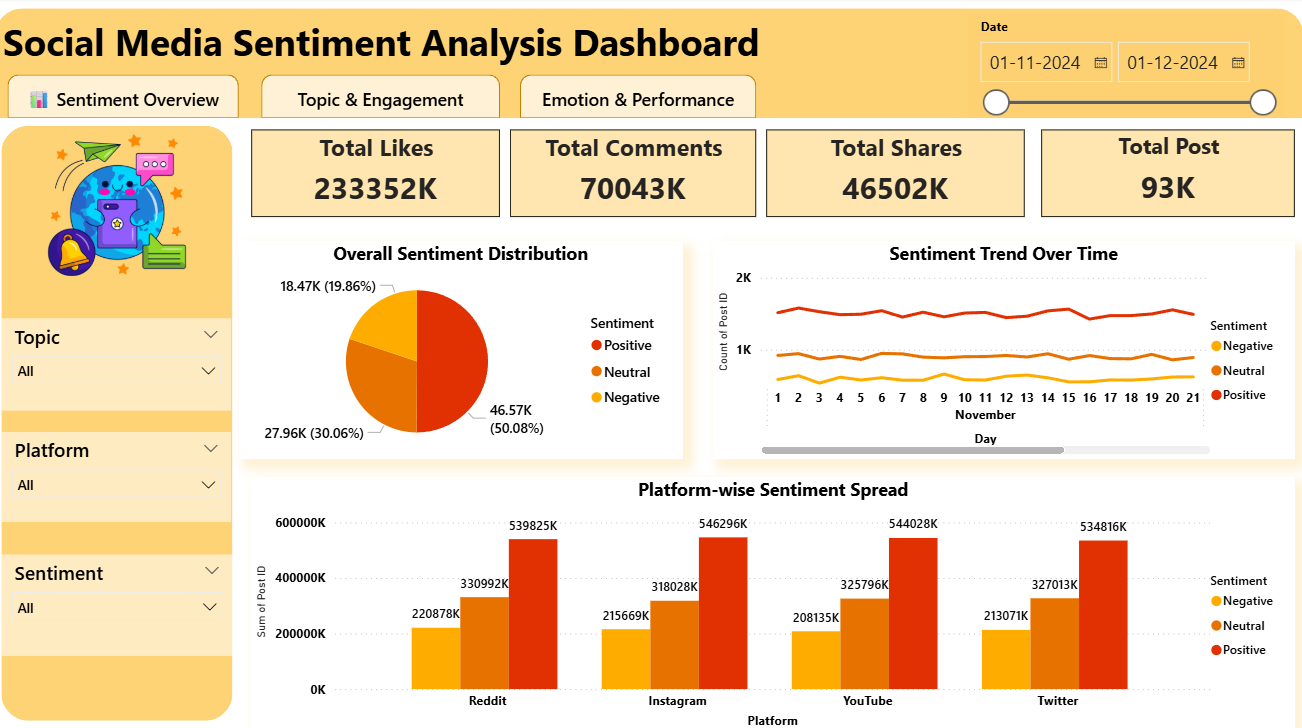

The dashboard page shown, as its layout file describes it:
{"tool":"powerbi","page":{"name":"📊 Sentiment Overview","canvas":[1280,720],"ordinal":0},"visuals":[{"type":"shape","box":[0,11,1280.3,107.6],"z":0},{"type":"shape","box":[12.2,75.8,226.2,42.8],"z":1000},{"type":"shape","box":[260.5,75.8,233.6,42.8],"z":2000},{"type":"shape","box":[513.6,75.8,231.1,42.8],"z":3000},{"type":"shape","box":[6.1,126,226.2,582.1],"z":4000},{"type":"image","box":[6.1,129.6,226.2,148],"z":5000},{"type":"slicer","fields":{"Values":["Social_Media_Sentiment_Analysis_3.Platform"]},"box":[6.1,425.5,225,88],"z":6000},{"type":"slicer","fields":{"Values":["Social_Media_Sentiment_Analysis_3.Date"]},"box":[951.4,15.9,310.6,102.7],"z":7000},{"type":"slicer","fields":{"Values":["Social_Media_Sentiment_Analysis_3.Topic"]},"box":[6.1,314.3,225,90.5],"z":8000},{"type":"card","title":"Total Shares","fields":{"Values":["Sum(Social_Media_Sentiment_Analysis_3.Shares)"]},"box":[754.5,129.6,253.1,85.6],"z":9000},{"type":"card","title":"Total Post","fields":{"Values":["CountNonNull(Social_Media_Sentiment_Analysis_3.Post ID)"]},"box":[1023.5,129.6,248.2,85.6],"z":10000},{"type":"card","title":"Total Comments","fields":{"Values":["Sum(Social_Media_Sentiment_Analysis_3.Comments)"]},"box":[503.8,129.6,240.9,85.6],"z":11000},{"type":"slicer","fields":{"Values":["Social_Media_Sentiment_Analysis_3.Sentiment"]},"box":[6.1,545.4,226.2,99],"z":12000},{"type":"lineChart","title":"Sentiment Trend Over Time","fields":{"Category":["Social_Media_Sentiment_Analysis_3.Date.Variation.Date Hierarchy.Month","Social_Media_Sentiment_Analysis_3.Date.Variation.Date Hierarchy.Day"],"Series":["Social_Media_Sentiment_Analysis_3.Sentiment"],"Y":["CountNonNull(Social_Media_Sentiment_Analysis_3.Post ID)"]},"box":[701.9,238.5,569.8,214],"z":13000},{"type":"clusteredColumnChart","title":"Platform-wise Sentiment Spread","fields":{"Category":["Social_Media_Sentiment_Analysis_3.Platform"],"Y":["Sum(Social_Media_Sentiment_Analysis_3.Post ID)"],"Series":["Social_Media_Sentiment_Analysis_3.Sentiment"]},"box":[250.7,469.6,1021.1,250.7],"z":14000},{"type":"pieChart","title":"Overall Sentiment Distribution","fields":{"Category":["Social_Media_Sentiment_Analysis_3.Sentiment"],"Y":["CountNonNull(Social_Media_Sentiment_Analysis_3.Post ID)"]},"box":[238.5,238.5,434.1,214],"z":15000},{"type":"card","title":"Total Likes ","fields":{"Values":["Sum(Social_Media_Sentiment_Analysis_3.Likes)"]},"box":[250.7,129.6,243.3,85.6],"z":16000}]}

Visuals, with their boxes in screenshot pixels (x1, y1, x2, y2), scaled from the page's 1280x720 canvas onto the 1302x728 screenshot:
shape: BBox(0, 11, 1301, 120)
shape: BBox(12, 77, 242, 120)
shape: BBox(265, 77, 503, 120)
shape: BBox(522, 77, 757, 120)
shape: BBox(6, 127, 236, 716)
image: BBox(6, 131, 236, 281)
slicer - Social_Media_Sentiment_Analysis_3.Platform: BBox(6, 430, 235, 519)
slicer - Social_Media_Sentiment_Analysis_3.Date: BBox(968, 16, 1284, 120)
slicer - Social_Media_Sentiment_Analysis_3.Topic: BBox(6, 318, 235, 409)
"Total Shares" card: BBox(767, 131, 1025, 218)
"Total Post" card: BBox(1041, 131, 1294, 218)
"Total Comments" card: BBox(512, 131, 757, 218)
slicer - Social_Media_Sentiment_Analysis_3.Sentiment: BBox(6, 551, 236, 652)
"Sentiment Trend Over Time" lineChart: BBox(714, 241, 1294, 458)
"Platform-wise Sentiment Spread" clusteredColumnChart: BBox(255, 475, 1294, 727)
"Overall Sentiment Distribution" pieChart: BBox(243, 241, 684, 458)
"Total Likes " card: BBox(255, 131, 502, 218)
